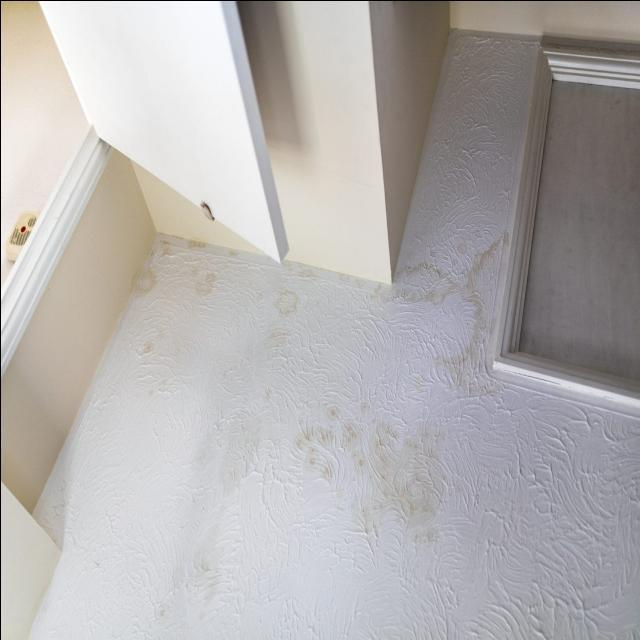leak: (178, 324, 262, 640), (363, 410, 443, 544), (454, 229, 505, 398), (290, 400, 364, 485), (371, 262, 453, 304), (189, 264, 223, 294), (276, 286, 306, 316), (134, 259, 157, 296), (156, 232, 174, 260), (263, 330, 297, 341), (136, 334, 156, 352), (226, 246, 244, 259), (184, 245, 209, 252)
